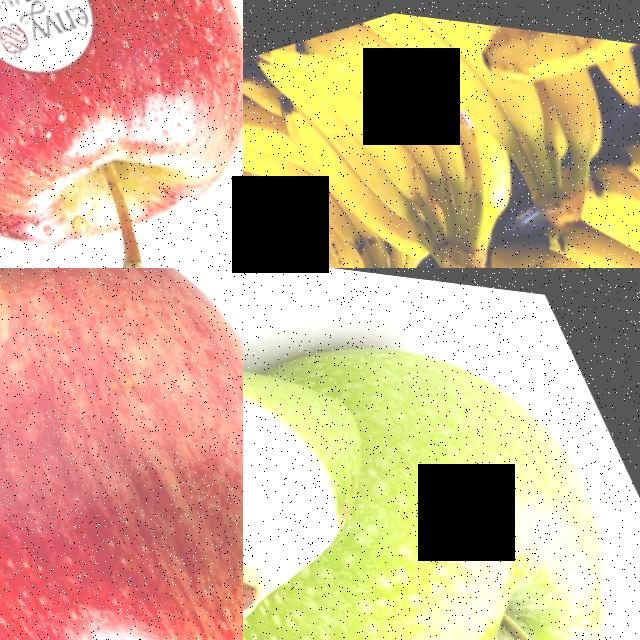apple: (0, 268, 243, 640), (243, 288, 445, 640), (243, 466, 640, 640), (0, 0, 243, 268)
banana: (243, 0, 526, 268)
